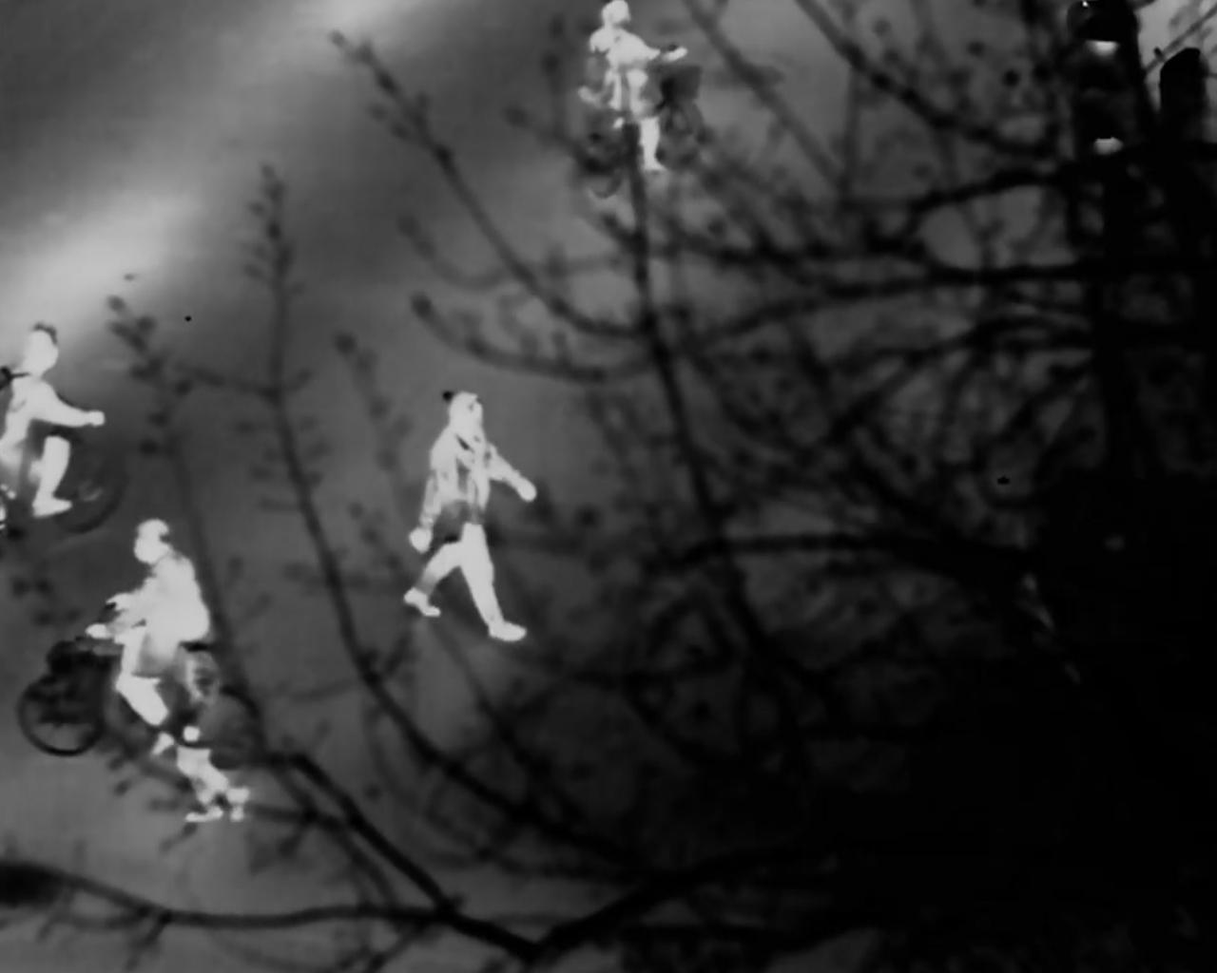person: (403, 390, 544, 645), (133, 603, 262, 826), (106, 525, 223, 760)
